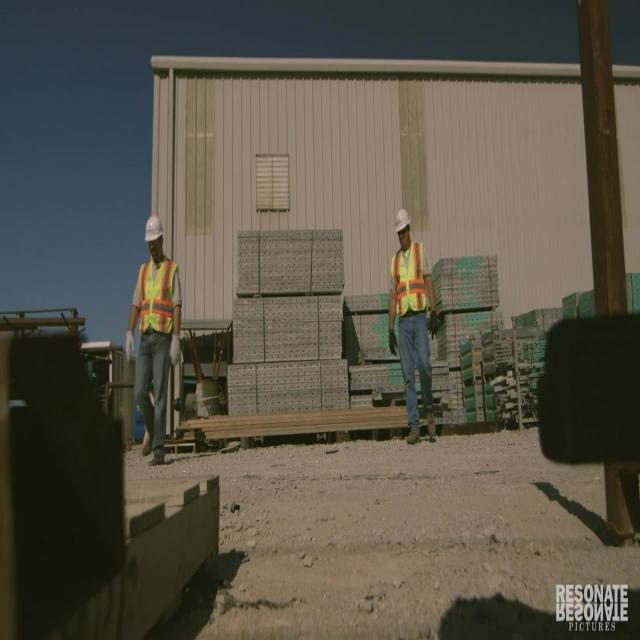Reflective-Jacket: (126, 255, 190, 352), (385, 241, 437, 326)
Safety-Helmet: (138, 206, 170, 254), (390, 198, 418, 241)
